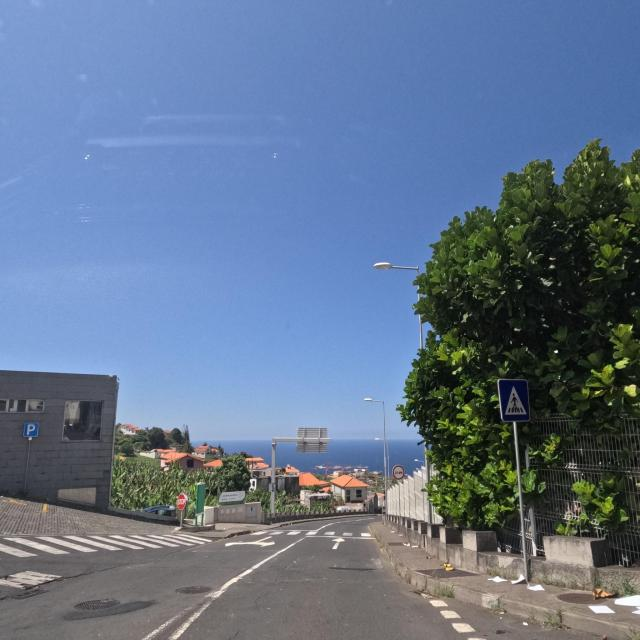car: (334, 503, 352, 515)
